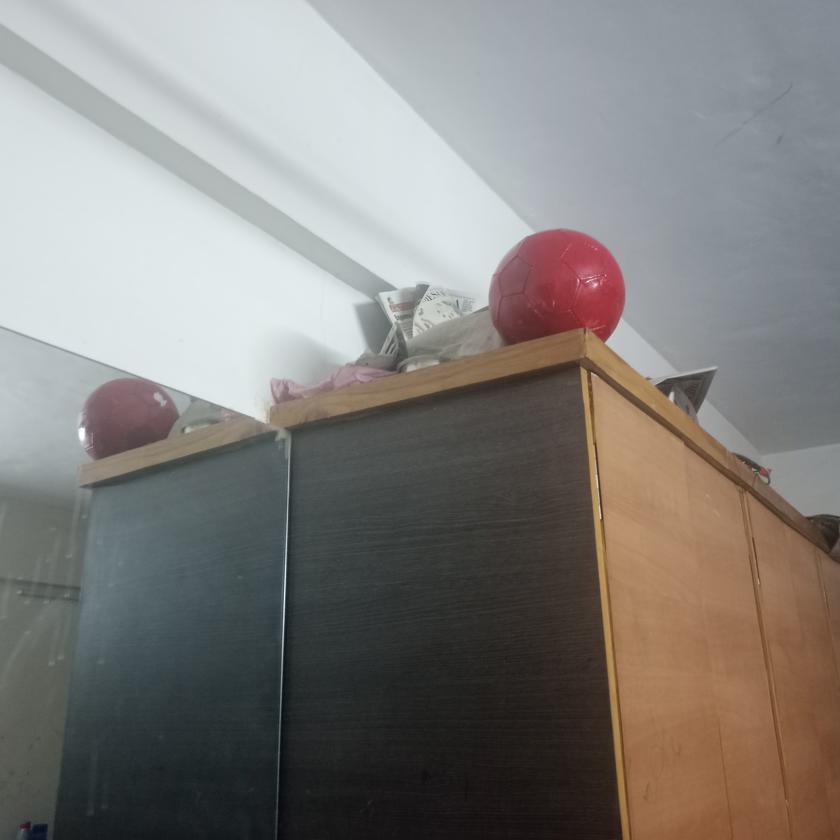Red_Ball: (489, 230, 628, 343)
